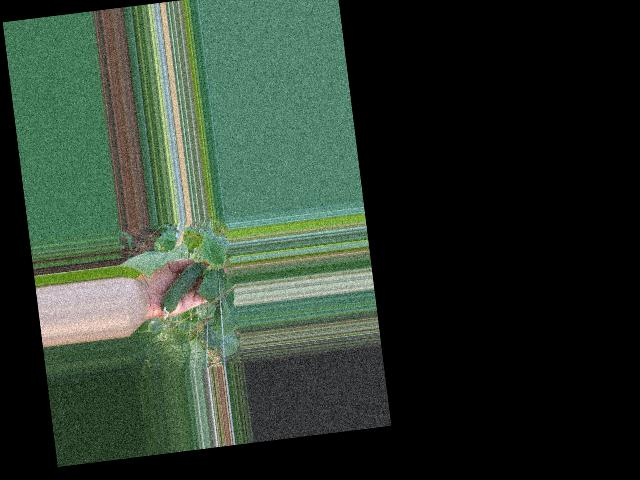cucumber: (156, 262, 209, 321)
